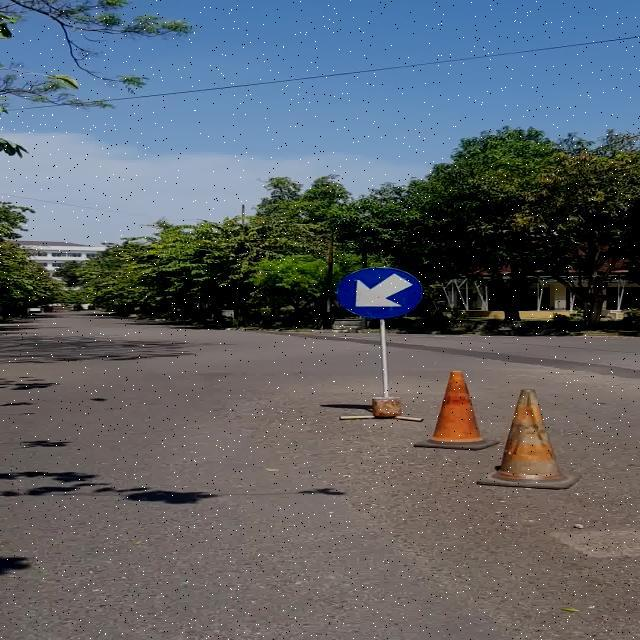Lajur Kiri: (337, 267, 422, 319)
